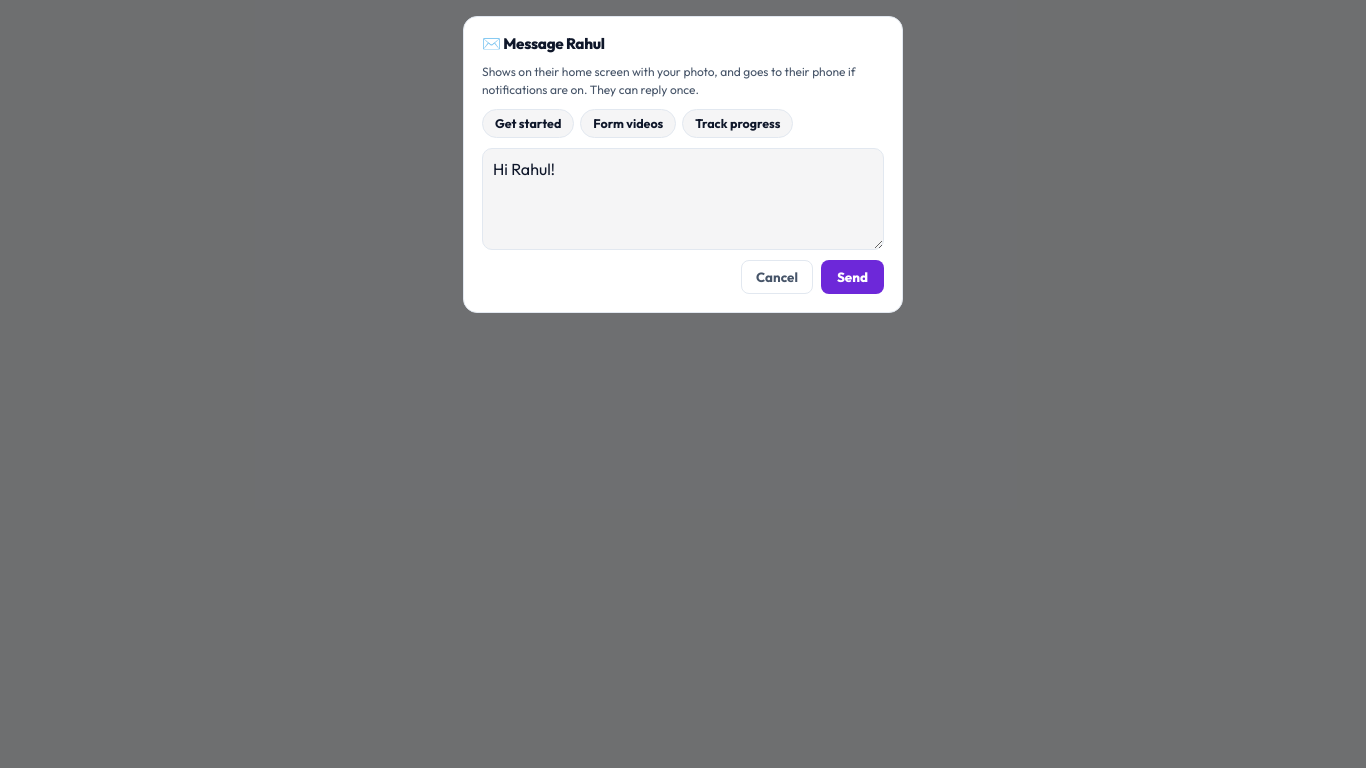
FounderMessageComposer › shows the error and does not push when saving fails
Click the button "Send".
click(852, 277)  # box [821,260,884,294]
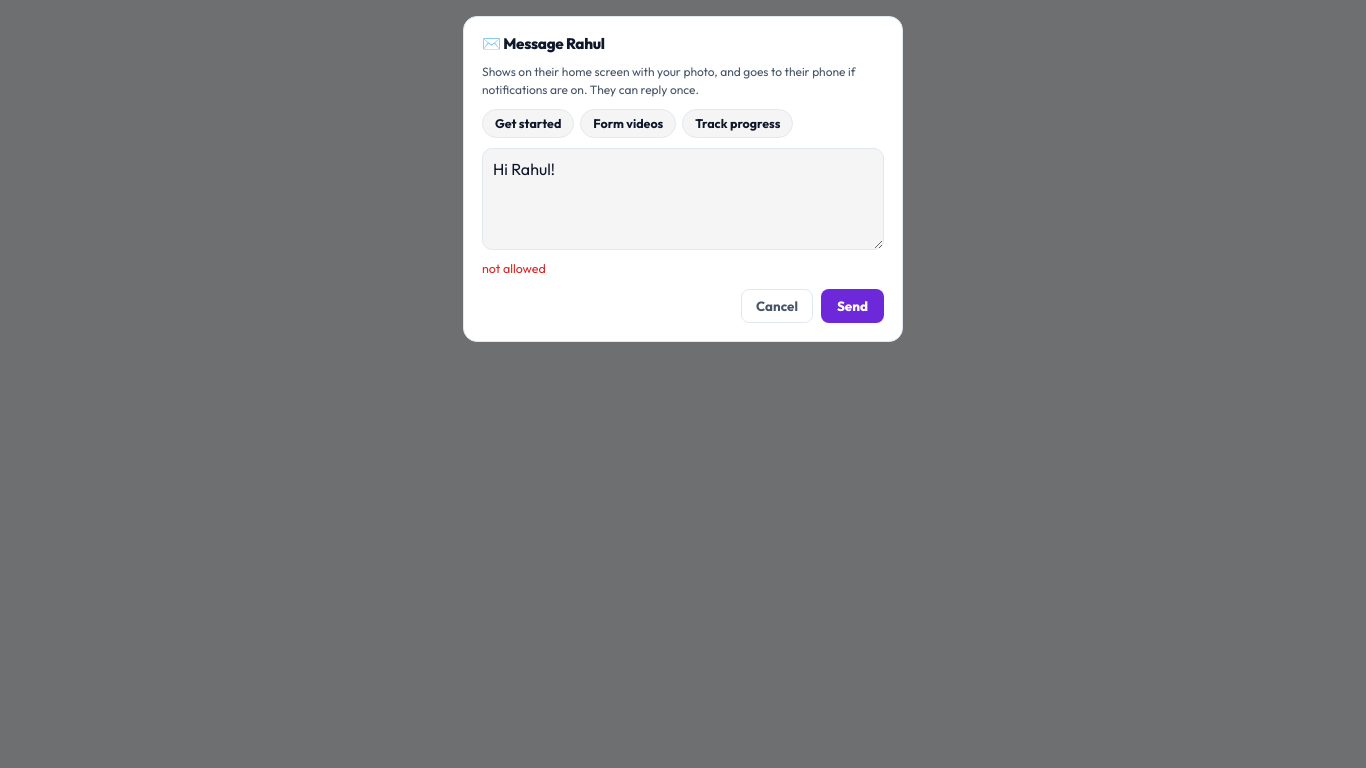
Check: the text "not allowed" is shown, box [482,261,546,276]
